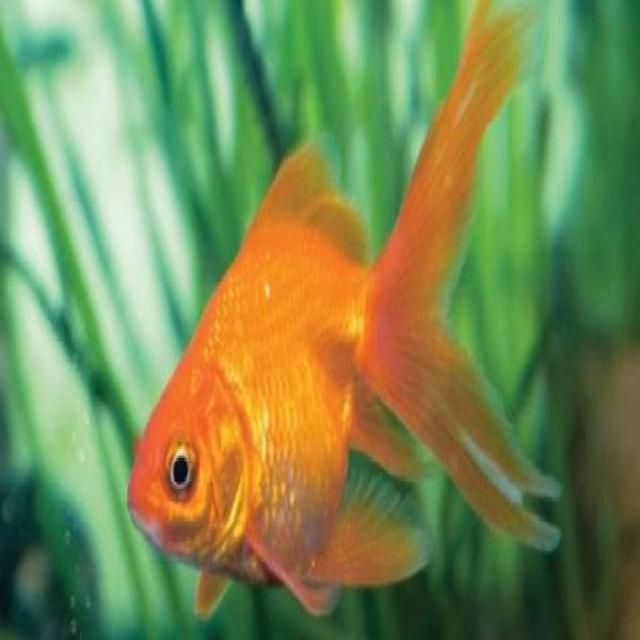GoldFish: (124, 10, 562, 621)
